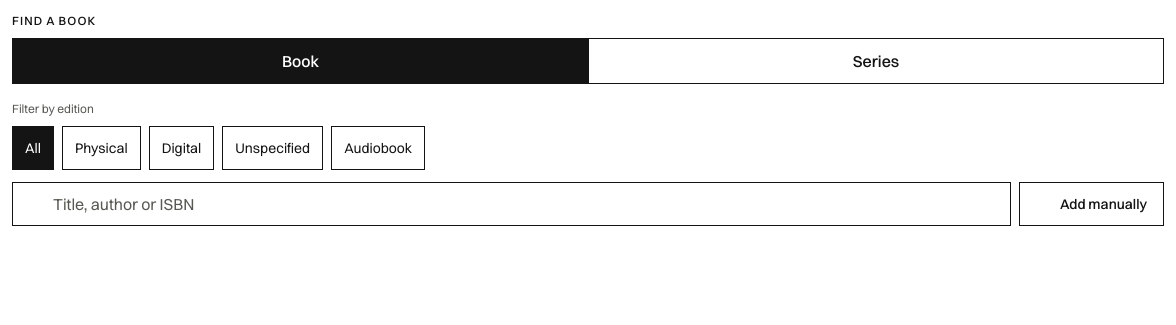
Test: adds a manual book and clears the form
Click the button "Add manually" at (1091, 204), box x1=1019 y1=182 x2=1164 y2=226
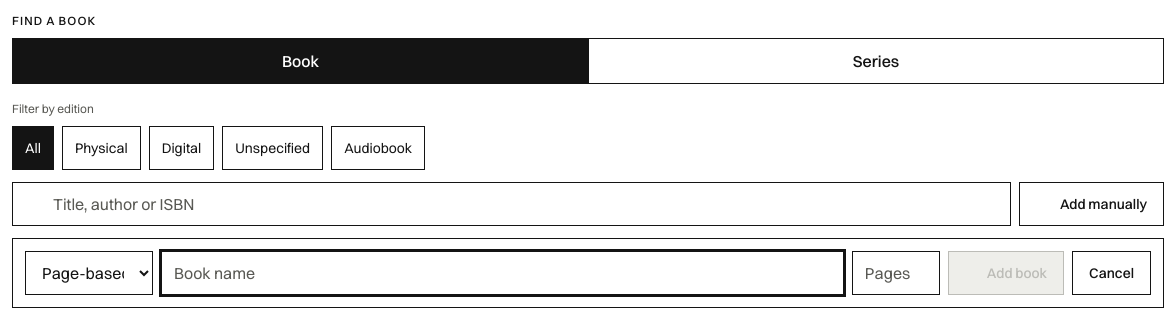
Type "House of Leaves" into the field labelled "Book name" at (502, 273), box x1=161 y1=251 x2=844 y2=295
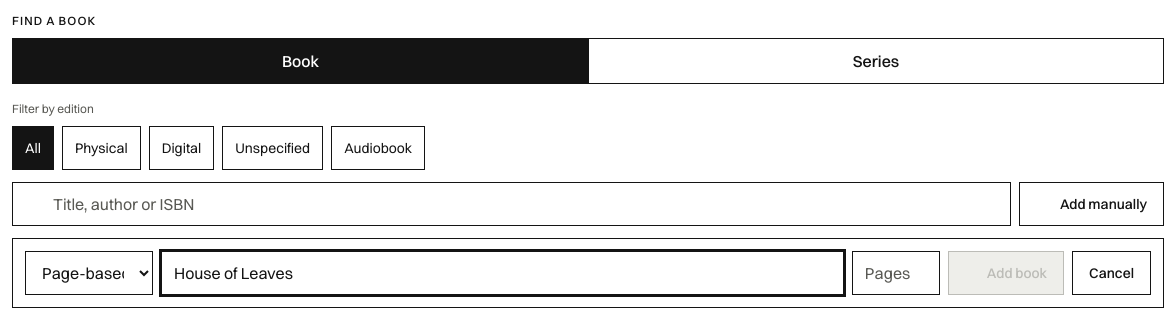
Type "12.5" into the number field named "Number of pages" at (896, 273), box x1=852 y1=251 x2=940 y2=295
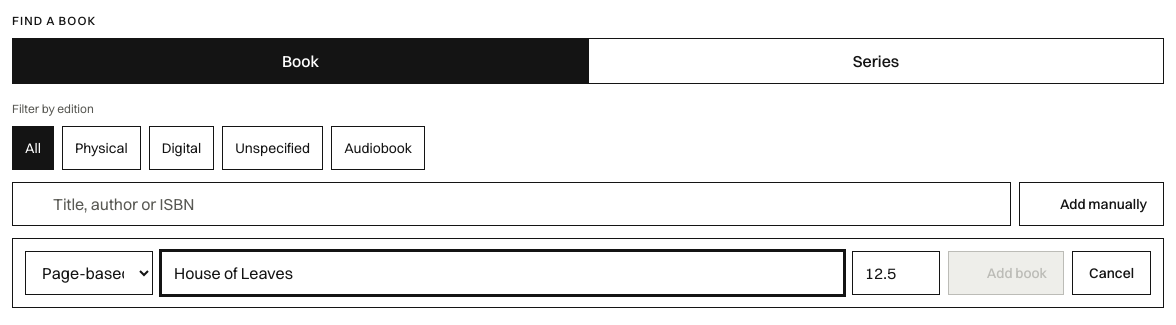
expect the button "Add book" is disabled: met, box x1=948 y1=251 x2=1064 y2=295
Replace the text in the number field named "Number of pages" with "709" at (896, 273), box x1=852 y1=251 x2=940 y2=295
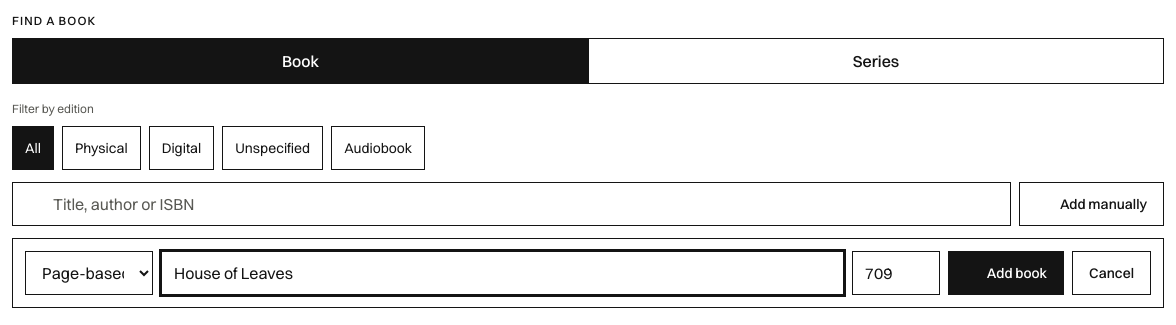
Click the button "Add book" at (1006, 273), box x1=948 y1=251 x2=1064 y2=295
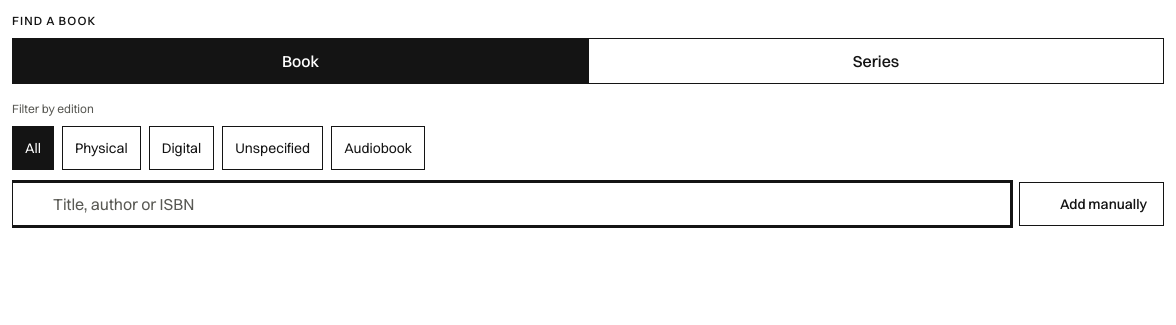
expect the field labelled "Book name" is not shown: met
expect the number field labelled "Number of pages" is gone: met
